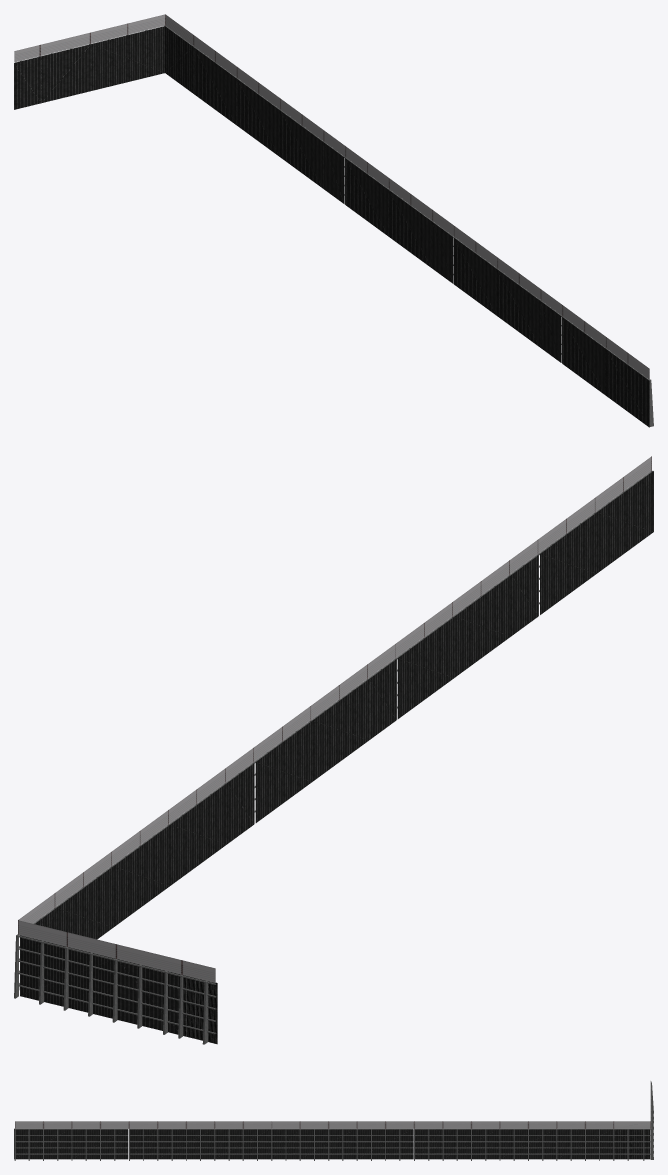
The model's file is vgsselecfence13.obj.
3 renders of one model, top to bottom at view 1: azimuth 30°, elevation 25°; view 2: azimuth 150°, elevation 25°; view 3: azimuth 270°, elevation 25°, orthographic. The views are drawn at different scales.
Visible parts, largest first — view 1: vgsSelecfence13; view 2: vgsSelecfence13; view 3: vgsSelecfence13.
Part boxes in pixels (bbox=[...]): vgsSelecfence13: bbox=[14, 14, 653, 427]; vgsSelecfence13: bbox=[14, 456, 653, 1044]; vgsSelecfence13: bbox=[14, 1081, 653, 1160].
Size of the model in its own units: 24.93 by 8.88 by 135.
3 materials, 3 textured.
